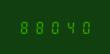eight: (18, 20, 32, 34), (33, 20, 47, 34)
four: (63, 20, 77, 34)
zero: (48, 20, 62, 34), (78, 20, 92, 34)
